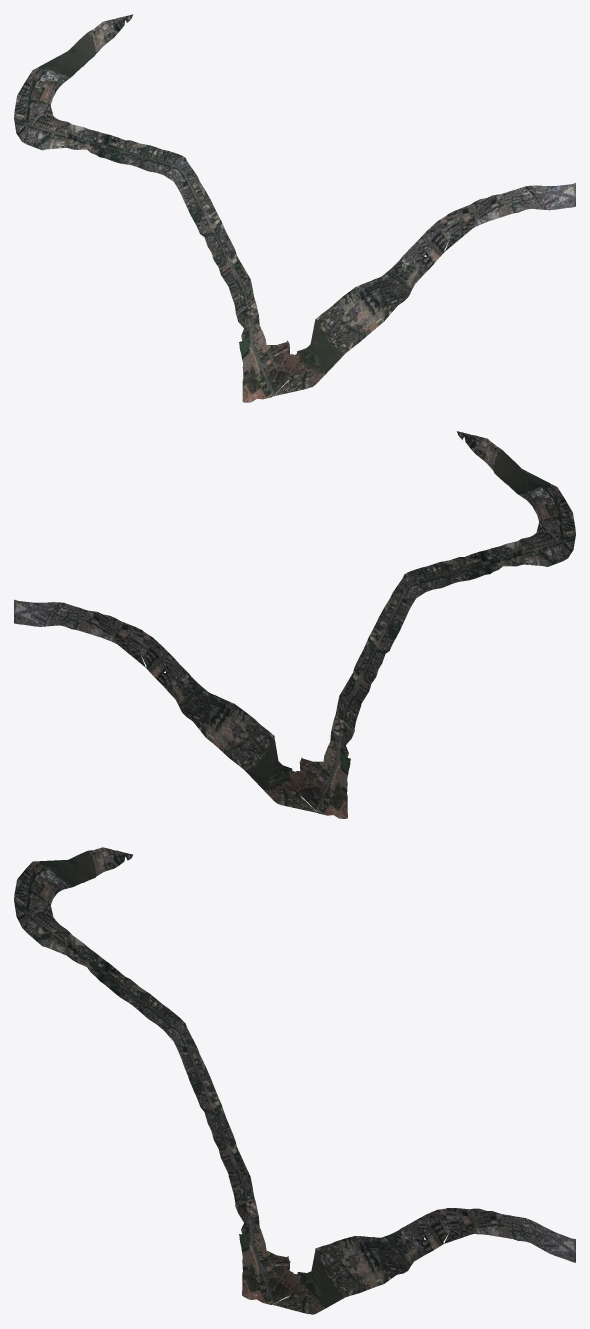
3 renders of one model, top to bottom at view 1: azimuth 30°, elevation 25°; view 2: azimuth 150°, elevation 25°; view 3: azimuth 330°, elevation 25°, orthographic.
Visible parts, largest first — view 1: 0_3; view 2: 0_3; view 3: 0_3.
Part boxes in pixels (left/top/right/bottom): 0_3: left=14, top=14, right=575, bottom=402; 0_3: left=14, top=431, right=575, bottom=818; 0_3: left=14, top=847, right=575, bottom=1314.
Size of the model in its own units: 7779 by 5515 by 38.9.
1 material, 1 textured.
